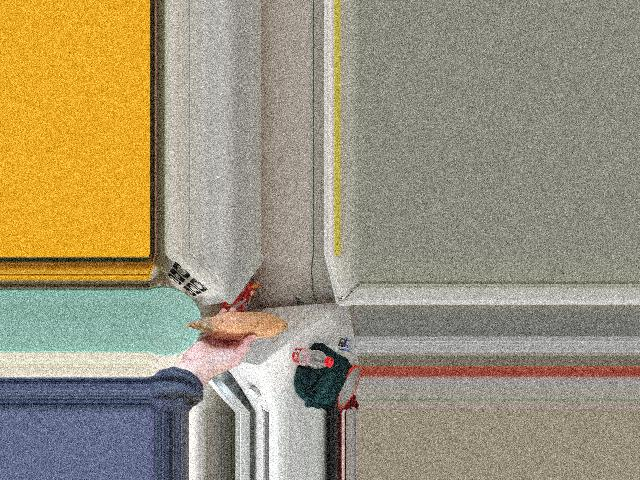sweet_potato: (200, 316, 274, 338)
